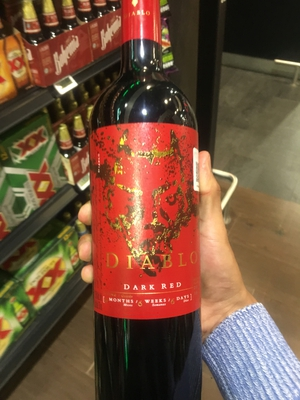diablo dark red: (76, 11, 210, 398)
